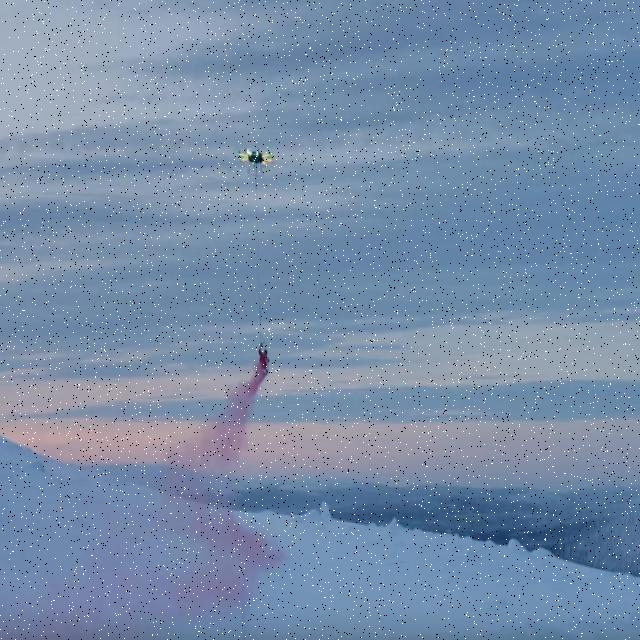UAV: (236, 142, 275, 180)
